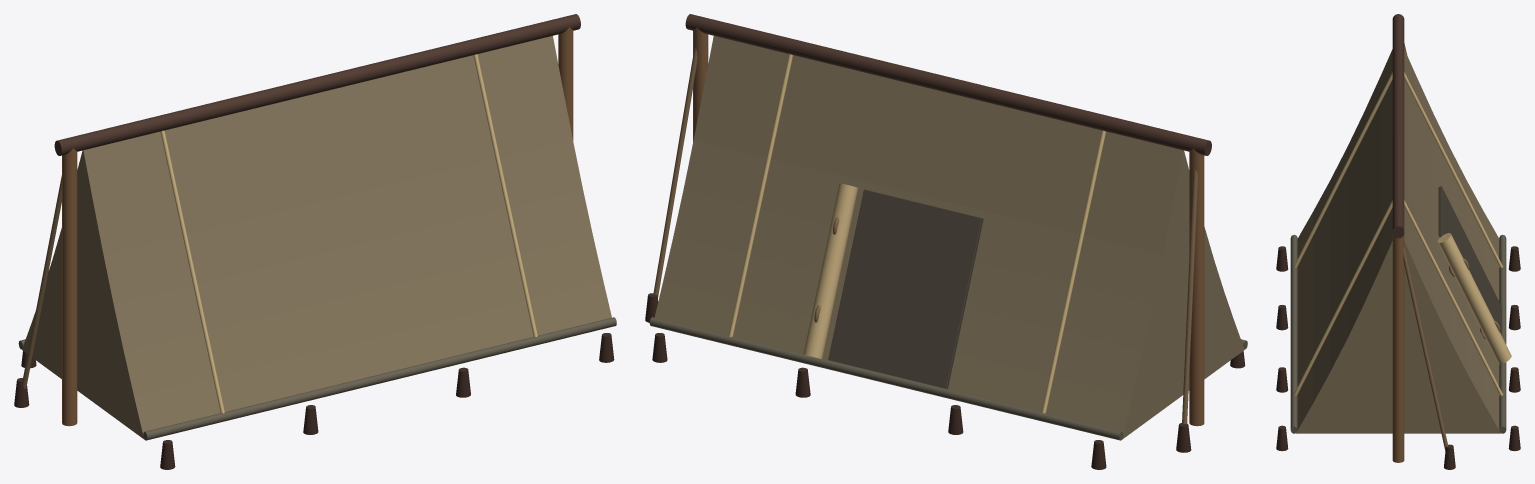
The model's file is extra_scout_tent.glb.
The picture shows the model from 3 angles, left to right: view 1: azimuth 30°, elevation 25°; view 2: azimuth 150°, elevation 25°; view 3: azimuth 270°, elevation 25°; orthographic projection. The views are drawn at different scales.
Parts seen in each view (by area): view 1: cloth, wood; view 2: cloth, wood, object 3; view 3: cloth, wood, object 3.
Boxes of the visible parts, x1=… form: cloth: x1=14, y1=36, x2=614, y2=469; wood: x1=18, y1=14, x2=616, y2=440; cloth: x1=645, y1=36, x2=1245, y2=469; wood: x1=649, y1=14, x2=1247, y2=440; object 3: x1=828, y1=189, x2=983, y2=389; cloth: x1=1276, y1=49, x2=1520, y2=469; wood: x1=1290, y1=14, x2=1511, y2=462; object 3: x1=1438, y1=186, x2=1501, y2=335.
Bounding box in the file's own units: 2.8 × 1.4 × 1.3.
